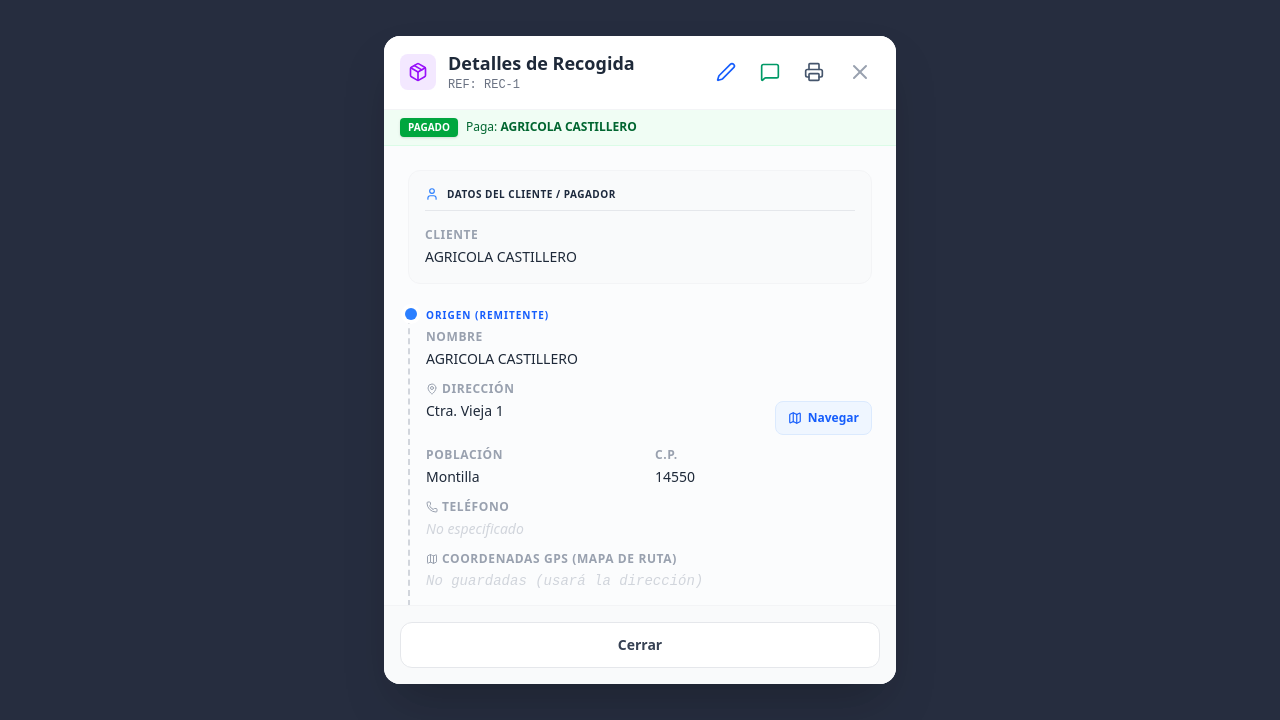
Test case: ShipmentDetailsModal: borrar desde Editar › sin pulsar Editar no hay Borrar, y al editar aparece junto a Cancelar
Expected: the button "Borrar" is not shown
Click the button titled "Editar". click: click(726, 72)
box: [708, 54, 744, 90]
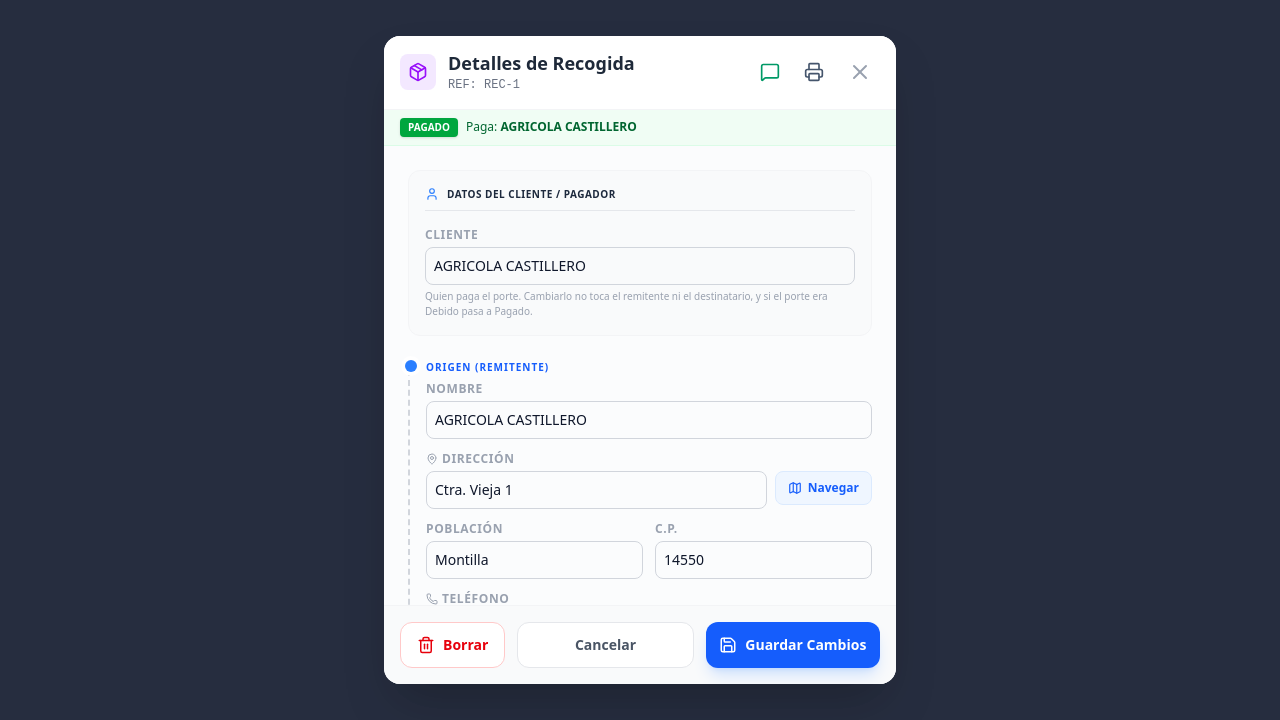
Expected: the button "Borrar" is shown, [400, 622, 505, 668]
Expected: the button "Cancelar" is shown, [517, 622, 694, 668]
Expected: the button "Guardar Cambios" is shown, [706, 622, 880, 668]
